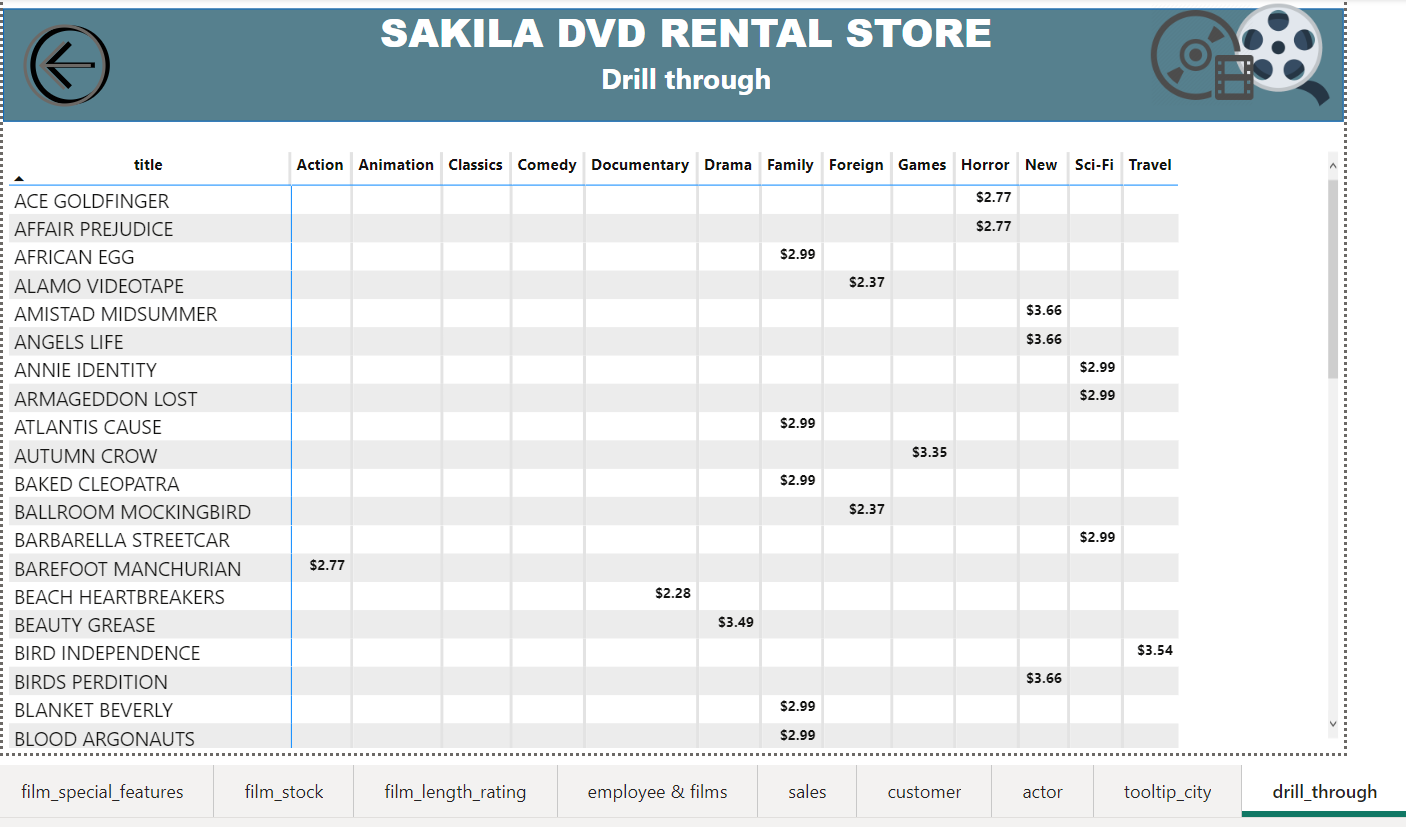

This screenshot's page, from the dashboard's own definition file:
{"tool":"powerbi","page":{"name":"drill_through","canvas":[1280,720],"ordinal":10},"visuals":[{"type":"pivotTable","fields":{"Rows":["movie not available2.title"],"Columns":["sakila category.name"],"Values":["Avg(sakila film.rental_rate)"]},"box":[0,141.1,1278.9,578.4],"z":0},{"type":"shape","title":"Shape","box":[0.5,10,1279.5,108.1],"z":2000},{"type":"image","box":[1160.3,0,119.2,108.1],"z":3000},{"type":"image","box":[1088.7,0,109.7,108.1],"z":4000},{"type":"textbox","box":[271.8,0,759.7,125.6],"z":5000},{"type":"actionButton","box":[10,10,109.7,108.1],"z":6000},{"type":"actionButton","box":[10.2,16.3,113.8,97.6],"z":6500}]}

Visuals, with their boxes on the page's 1280x720 design canvas (x1, y1, x2, y2). These are canvas units, not pixel positions in the 1406x827 screenshot, which may show the page scaled, cropped or inside an application window:
pivotTable - movie not available2.title x sakila category.name: 0:141:1279:720
"Shape" shape: 0:10:1280:118
image: 1160:0:1280:108
image: 1089:0:1198:108
textbox: 272:0:1032:126
actionButton: 10:10:120:118
actionButton: 10:16:124:114
